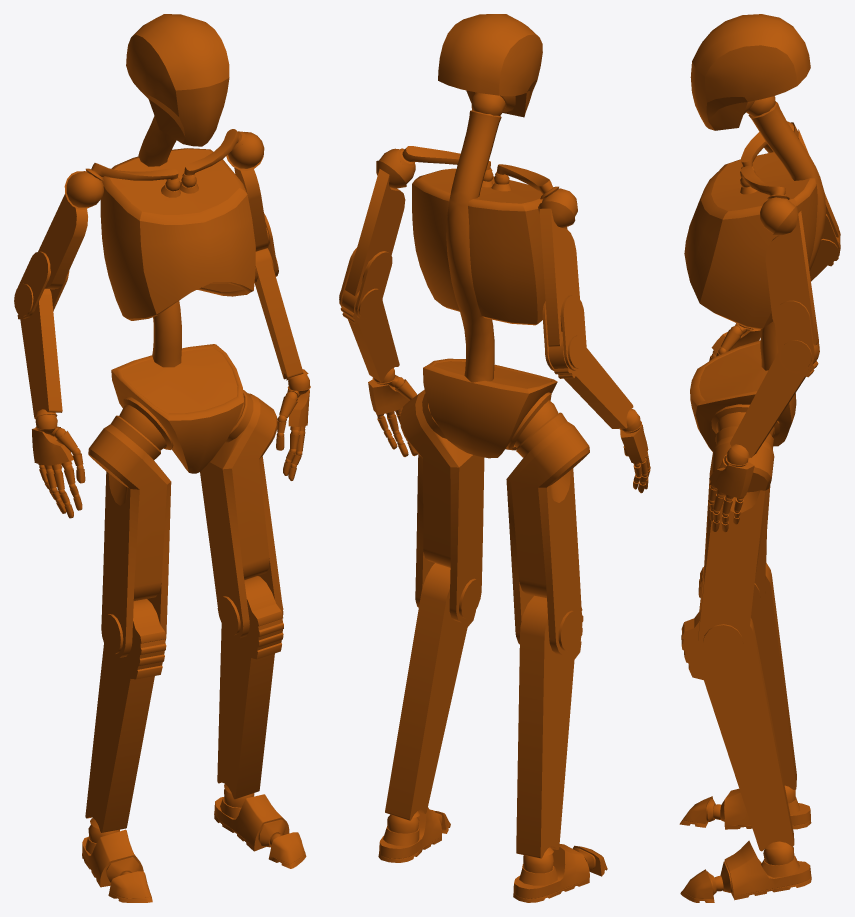
File: RobotAnimacja_000024.obj
3 renders of one model, left to right at view 1: azimuth 30°, elevation 25°; view 2: azimuth 150°, elevation 25°; view 3: azimuth 270°, elevation 25°, orthographic.
Parts seen in each view (by area): view 1: free3dmodel.001; view 2: free3dmodel.001; view 3: free3dmodel.001.
Part boxes in pixels (x1,y1,x2,y2): free3dmodel.001: [14, 14, 310, 902]; free3dmodel.001: [339, 14, 650, 902]; free3dmodel.001: [679, 14, 840, 902].
Bounding box in the file's own units: 2.03 × 6.03 × 1.05.
